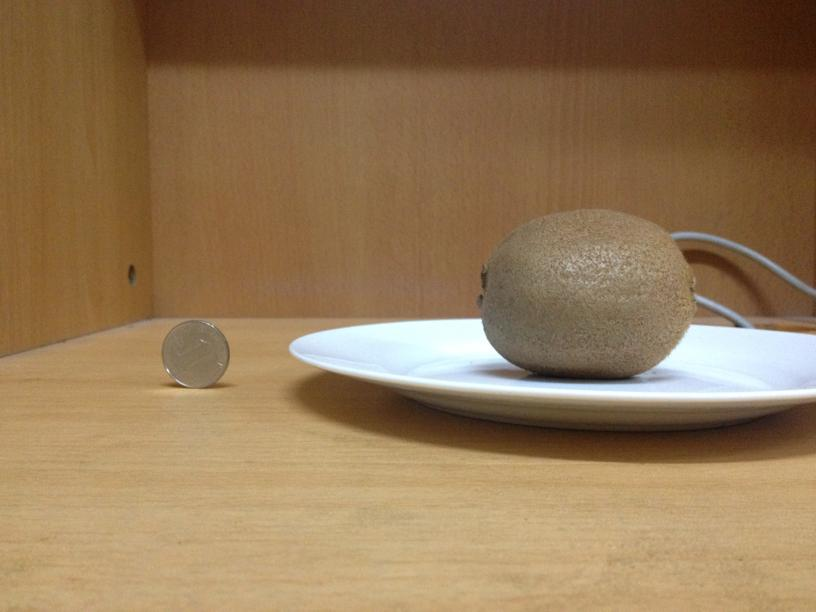coin: (154, 317, 234, 388)
qiwi: (476, 207, 694, 376)
